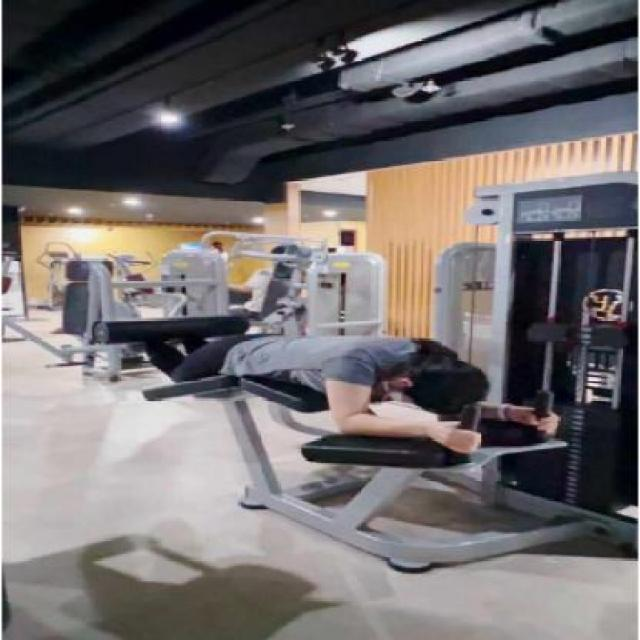reg curl machine: (75, 160, 640, 577)
